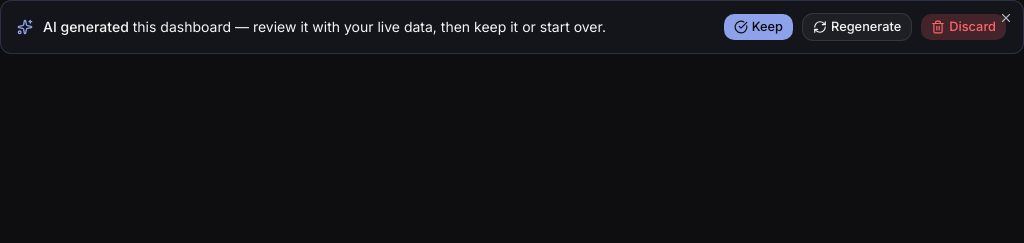
Test: AiReviewBanner › shows an error message when deleteDashboard fails on Discard
The image size is (1024, 243).
Click the button "Discard" at {"x": 964, "y": 27}, box [920,13,1007,41]
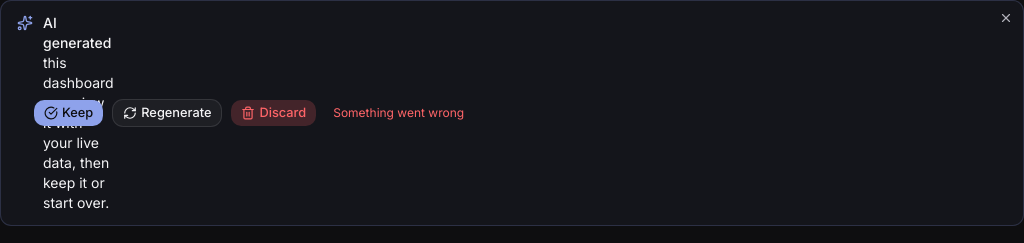
Expected: the message "Something went wrong" is shown, [333,105,464,120]
